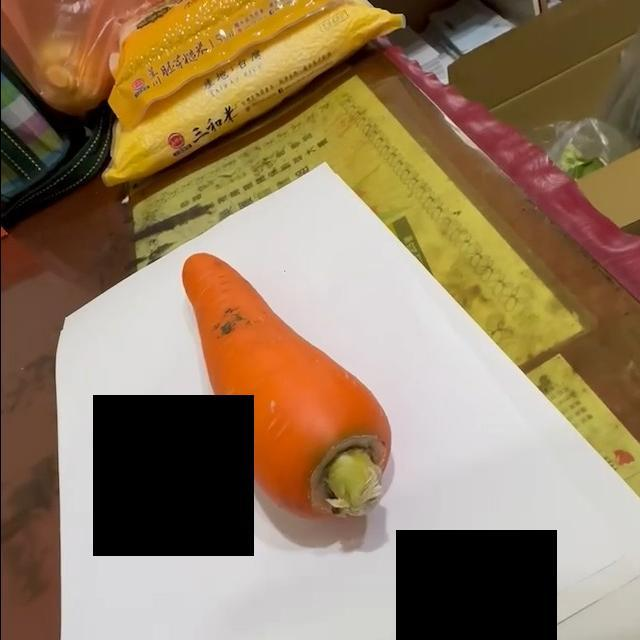carrot: (181, 251, 395, 524)
